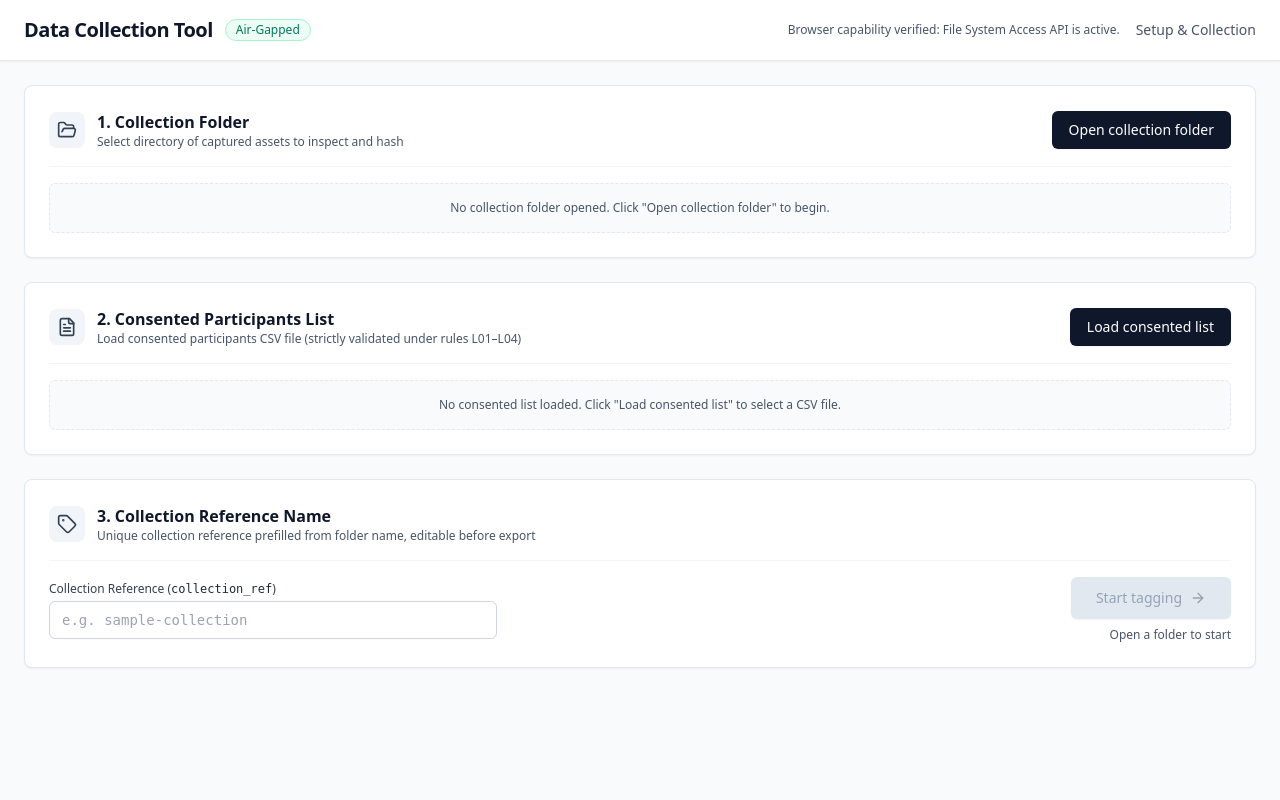
Scenario: Adversarial Stress Harness: Milestone 4 Start Screen & State Pipeline › Challenge 2: Empty folder ingestion (0 assets, division by zero protection) › 2.1: Handles completely empty folder (0 assets) without crashing or NaN
What coordinates should you click on to do the following:
click the button with test id "open-folder-button"
I would click on:
 (1141, 130)
Its box is [1052,111,1231,149].
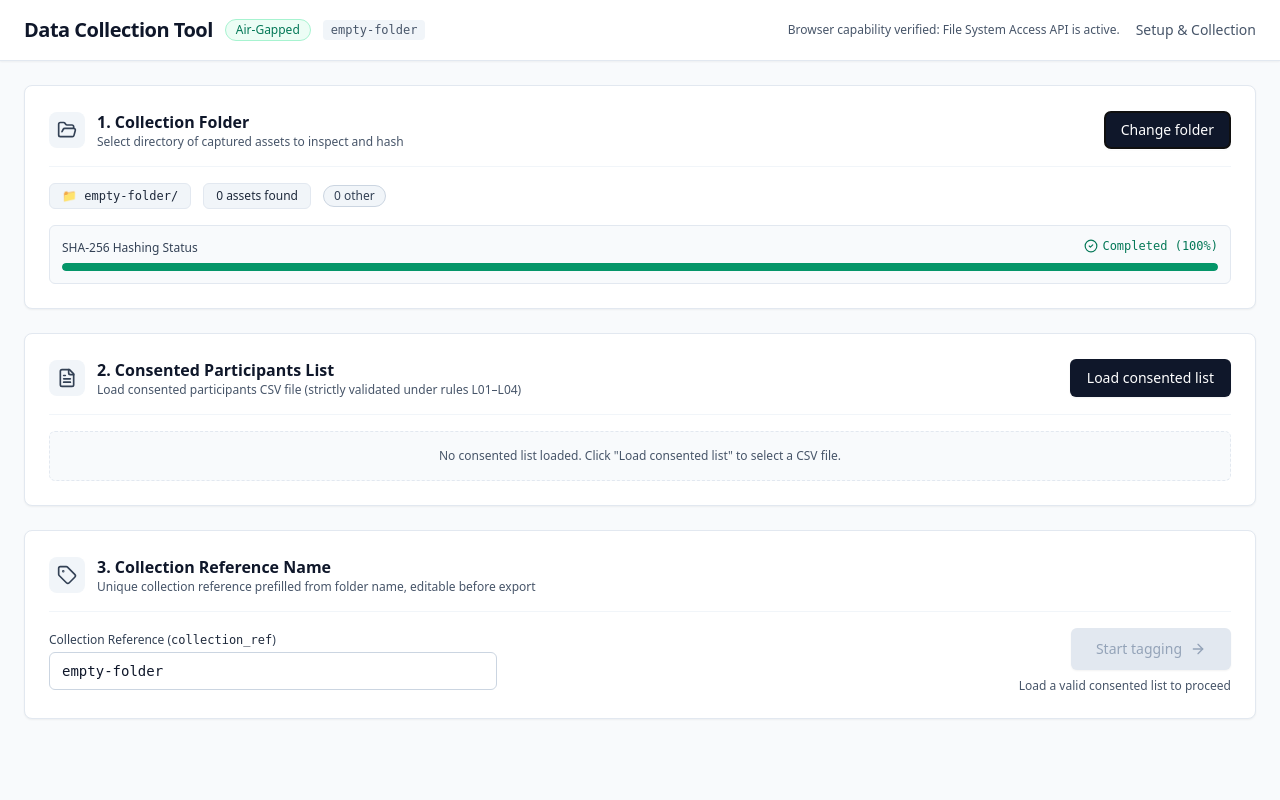
Expected: the text with test id "folder-name" shows "empty-folder", [84,189,171,203]
Expected: the text with test id "asset-count-badge" reads "0 assets found", [203,183,311,209]
Expected: the element with test id "hashing-progress-bar" is shown, [49,225,1231,284]
